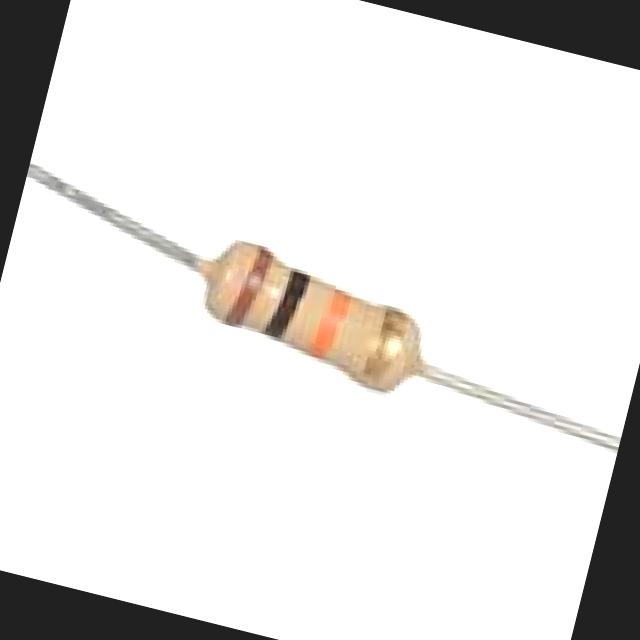Resistor: (197, 243, 419, 393)
black: (265, 265, 312, 340)
brown: (224, 242, 274, 326)
gold: (359, 299, 407, 387)
orange: (307, 283, 355, 359)
